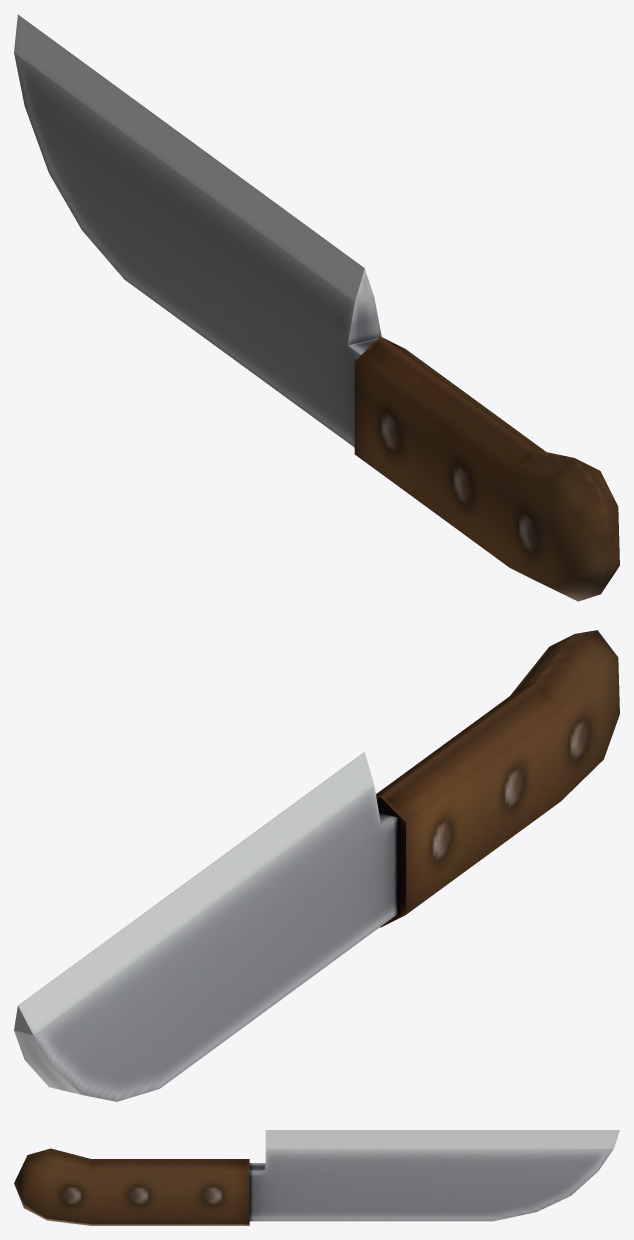
The model's file is knife010.fbx.
3 views of the same model, one above another, from view 1: azimuth 30°, elevation 25°; view 2: azimuth 150°, elevation 25°; view 3: azimuth 270°, elevation 25° (orthographic). The views are drawn at different scales.
Visible parts, largest first — view 1: knife010; view 2: knife010; view 3: knife010.
Boxes of the visible parts, box(x1,y1,x2,y2) form: knife010: box(14, 14, 619, 601); knife010: box(14, 630, 619, 1101); knife010: box(14, 1130, 619, 1225).
Size of the model in its own units: 0.021 by 0.0734 by 0.4204.
